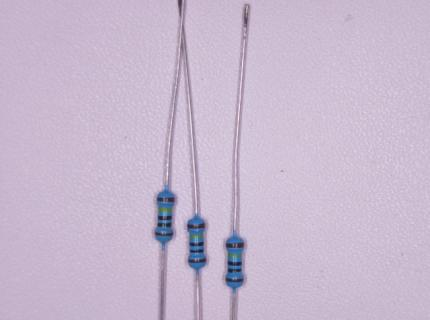Black band: (228, 261, 242, 266), (229, 268, 242, 273), (158, 216, 172, 220), (190, 242, 204, 246), (158, 223, 171, 227), (190, 249, 203, 253)
Brown band: (227, 242, 244, 248), (157, 197, 175, 202), (188, 223, 205, 228), (226, 278, 244, 282), (188, 259, 206, 263), (156, 232, 172, 236)
Yellow band: (190, 233, 203, 238), (158, 208, 172, 212), (228, 254, 243, 257)
